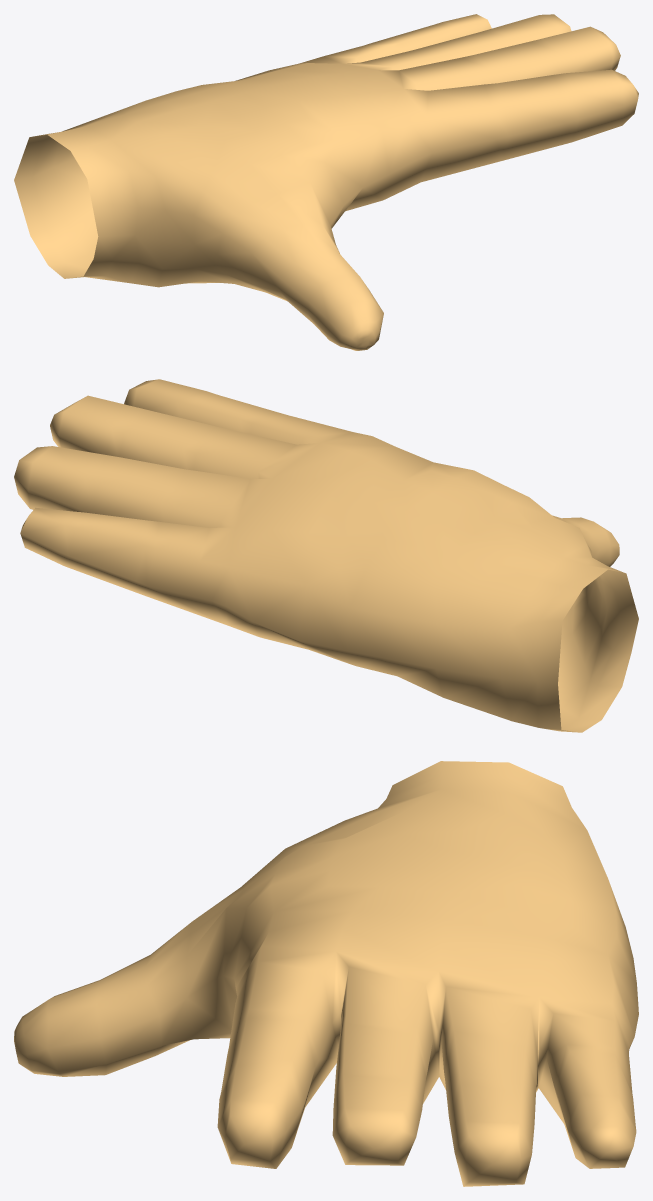
The model's file is Left_Arm_01.fbx.
3 renders of one model, top to bottom at view 1: azimuth 30°, elevation 25°; view 2: azimuth 150°, elevation 25°; view 3: azimuth 270°, elevation 25°, orthographic. The views are drawn at different scales.
Parts seen in each view (by area): view 1: Left_Arm_01; view 2: Left_Arm_01; view 3: Left_Arm_01.
Boxes of the visible parts, x1,y1,x2,y2 form: Left_Arm_01: [14, 14, 638, 350]; Left_Arm_01: [14, 379, 638, 732]; Left_Arm_01: [14, 761, 638, 1186].
Size of the model in its own units: 23.92 by 6.62 by 16.66.
